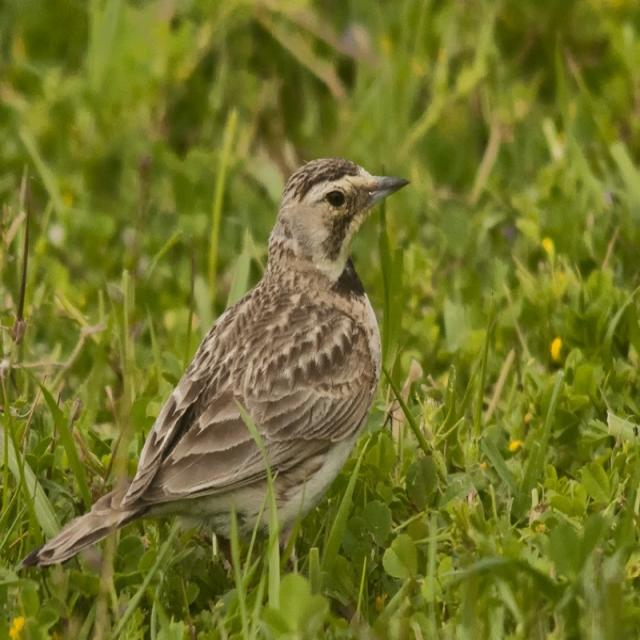bird: (26, 157, 429, 573)
